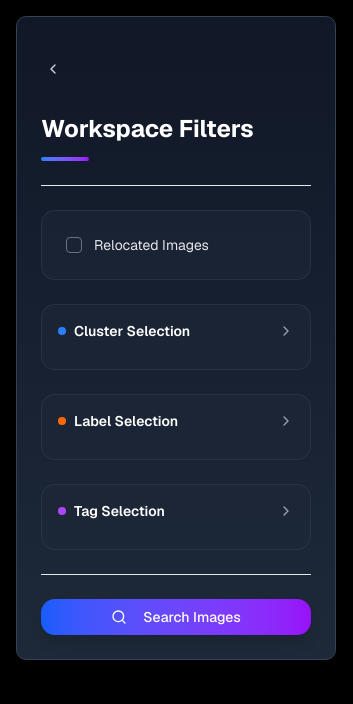
Test: FilterSidebar › tag selection › renders tag checkboxes with correct data
Click to expand tag section
What coordinates should you click on to do the following:
click the text "Tag Selection"
I would click on:
 (119, 511)
Its box is [74,501,165,521].
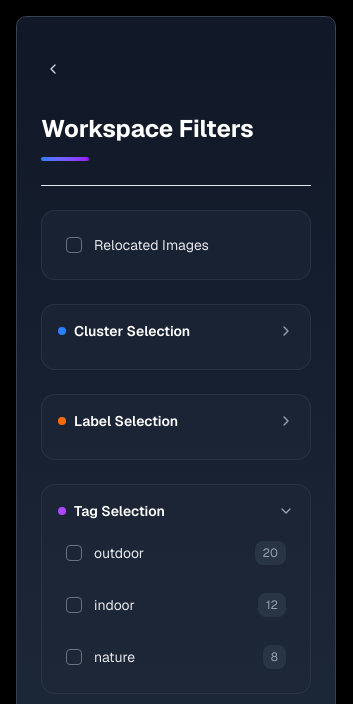
Expected: the text "outdoor" is shown, [94,544,144,562]
Expected: the text "indoor" is shown, [94,596,135,614]
Expected: the text "20" is shown, [255,541,286,565]
